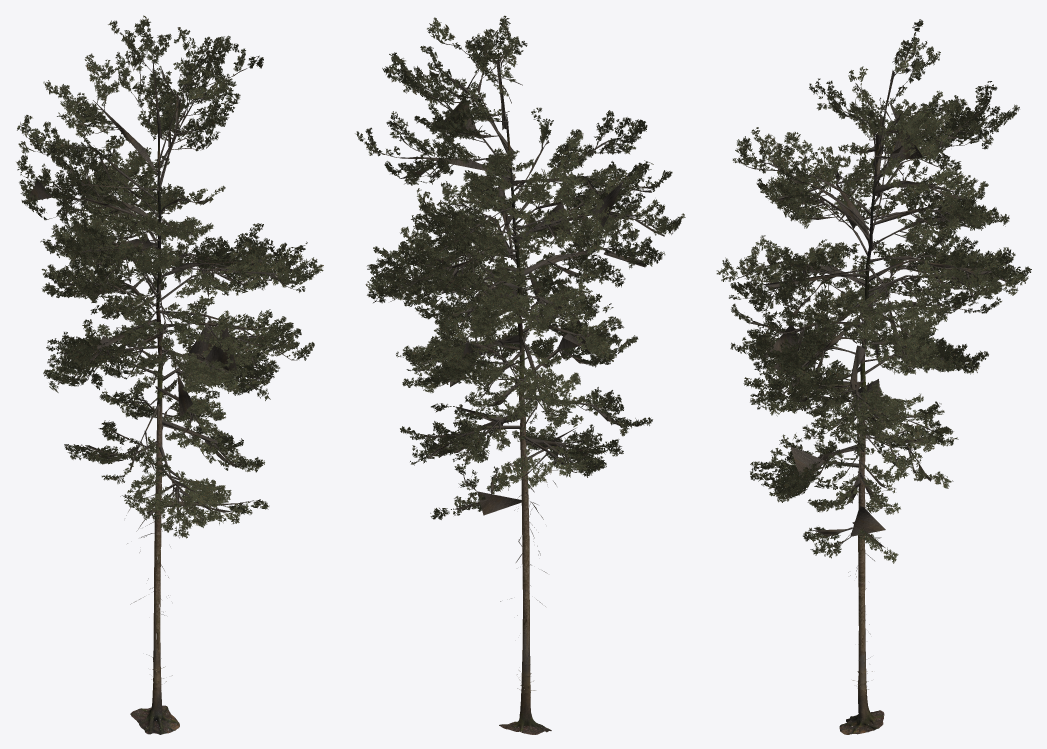
Rendered from pine-tree-01-a.glb.
The picture shows the model from 3 angles, left to right: view 1: azimuth 30°, elevation 25°; view 2: azimuth 150°, elevation 25°; view 3: azimuth 270°, elevation 25°; orthographic projection. The views are drawn at different scales.
Parts seen in each view (by area): view 1: pine_tree_01_a; view 2: pine_tree_01_a; view 3: pine_tree_01_a.
Boxes of the visible parts, x1=… form: pine_tree_01_a: x1=16, y1=15, x2=323, y2=734; pine_tree_01_a: x1=355, y1=15, x2=685, y2=734; pine_tree_01_a: x1=716, y1=19, x2=1031, y2=734.
Size of the model in its own units: 7.62 by 20.39 by 8.32.
3 materials, 3 textured.
